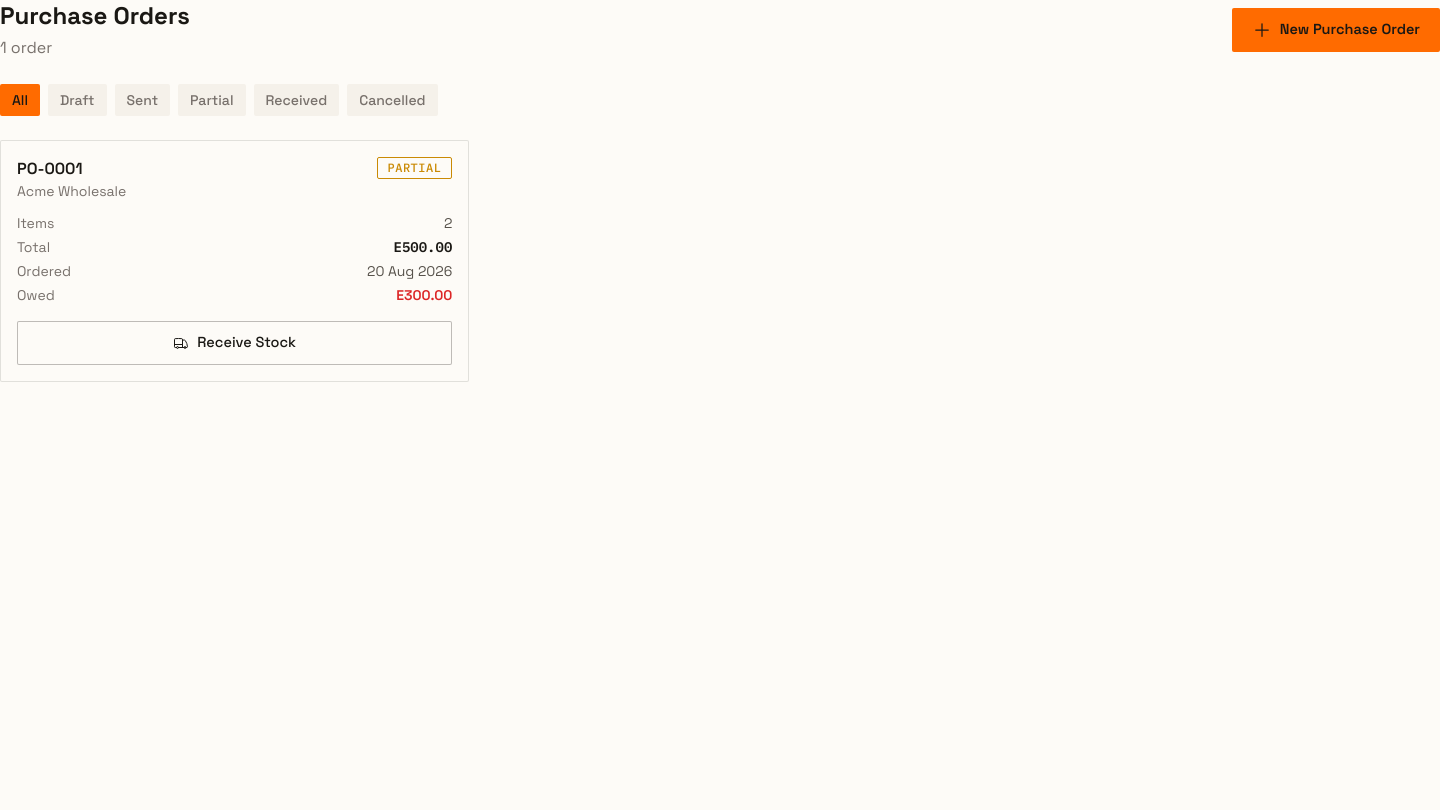
it: PurchaseOrders — recording a supplier payment › blocks an over-limit amount client-side before any request
Click the heading "PO-0001" at (50, 168), box [17,158,83,179]
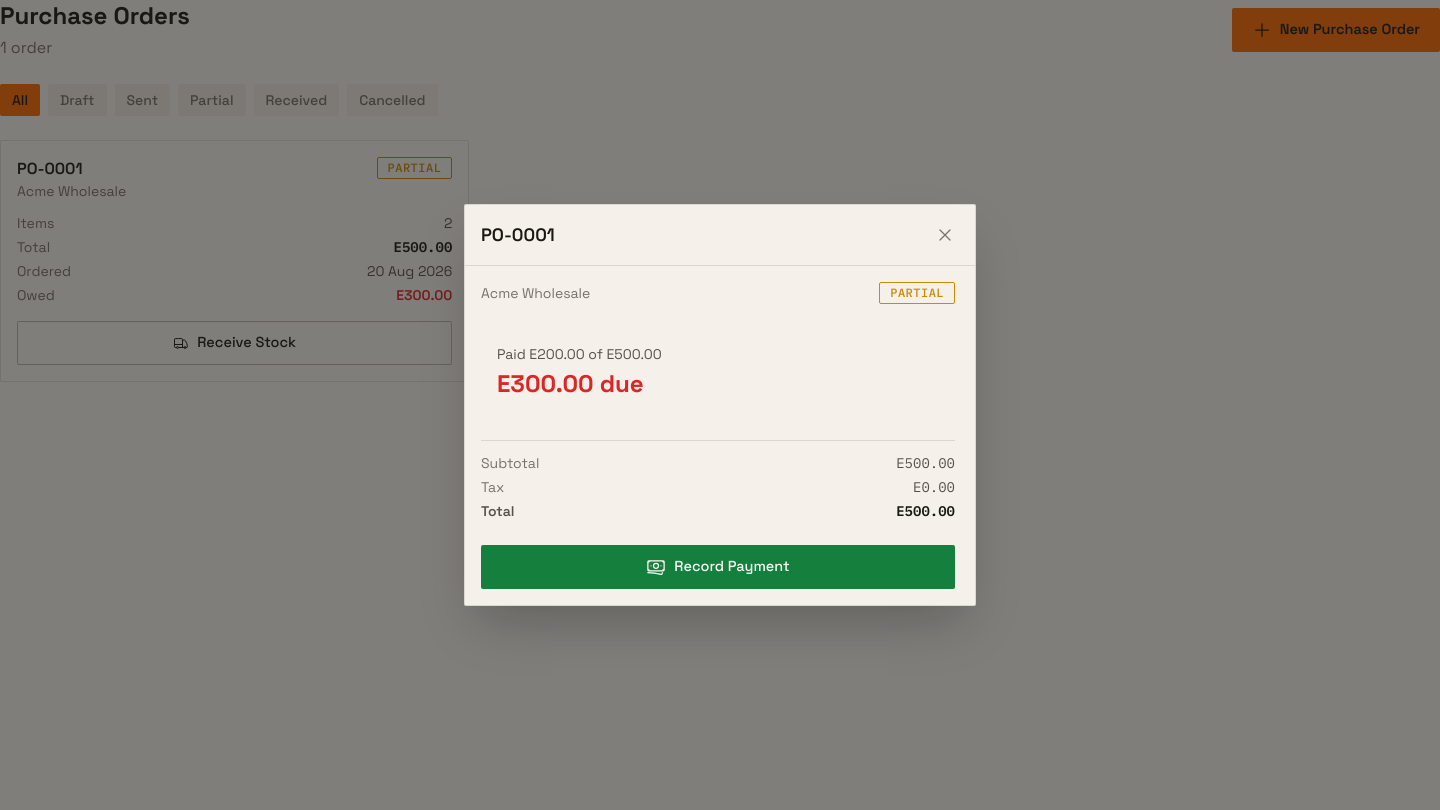
Now the button "Record Payment" is shown
Click the button "Record Payment" at (718, 567), box [481,545,955,589]
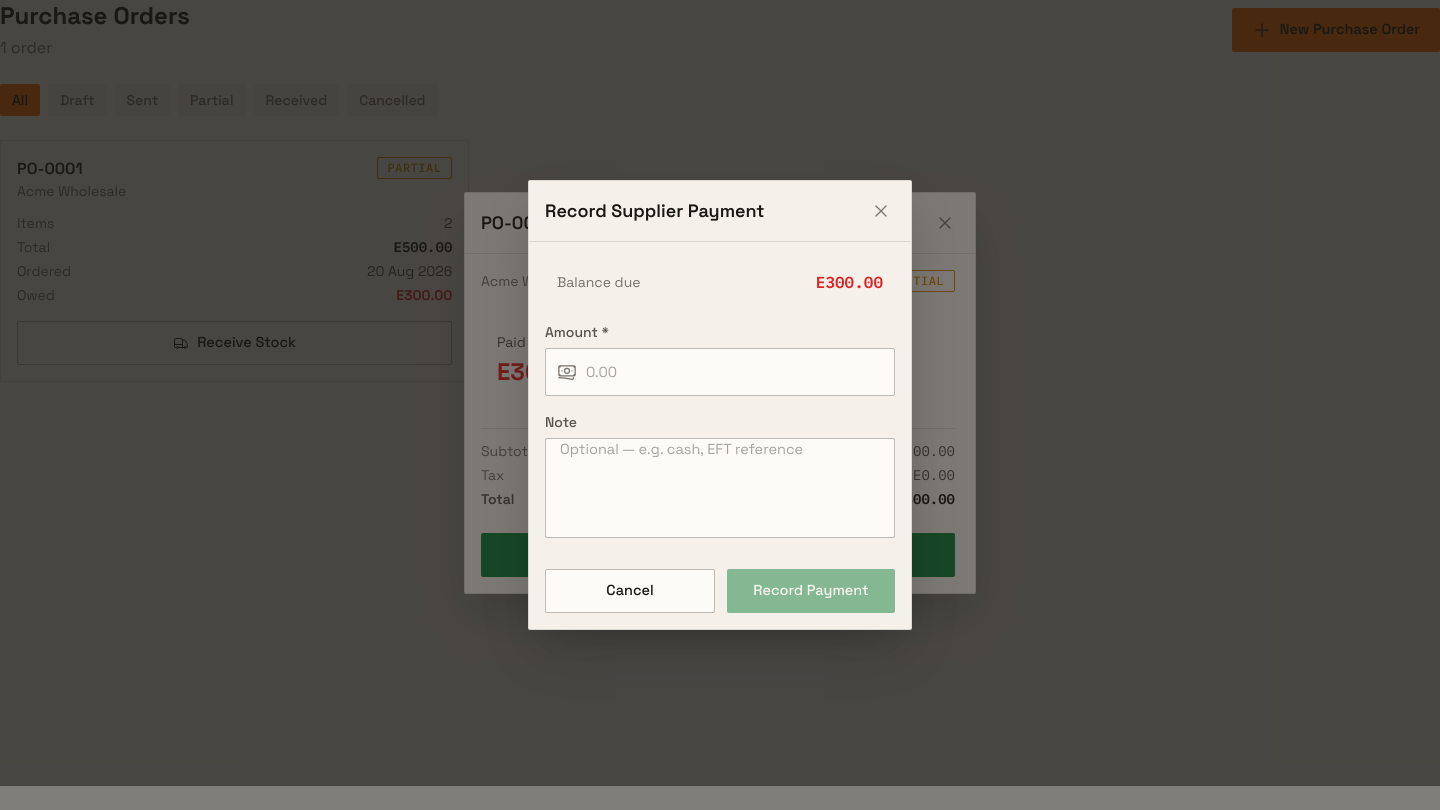
Now the number field with placeholder "0.00" is shown
Type "400" into the number field with placeholder "0.00" at (720, 372), box [545,348,895,396]
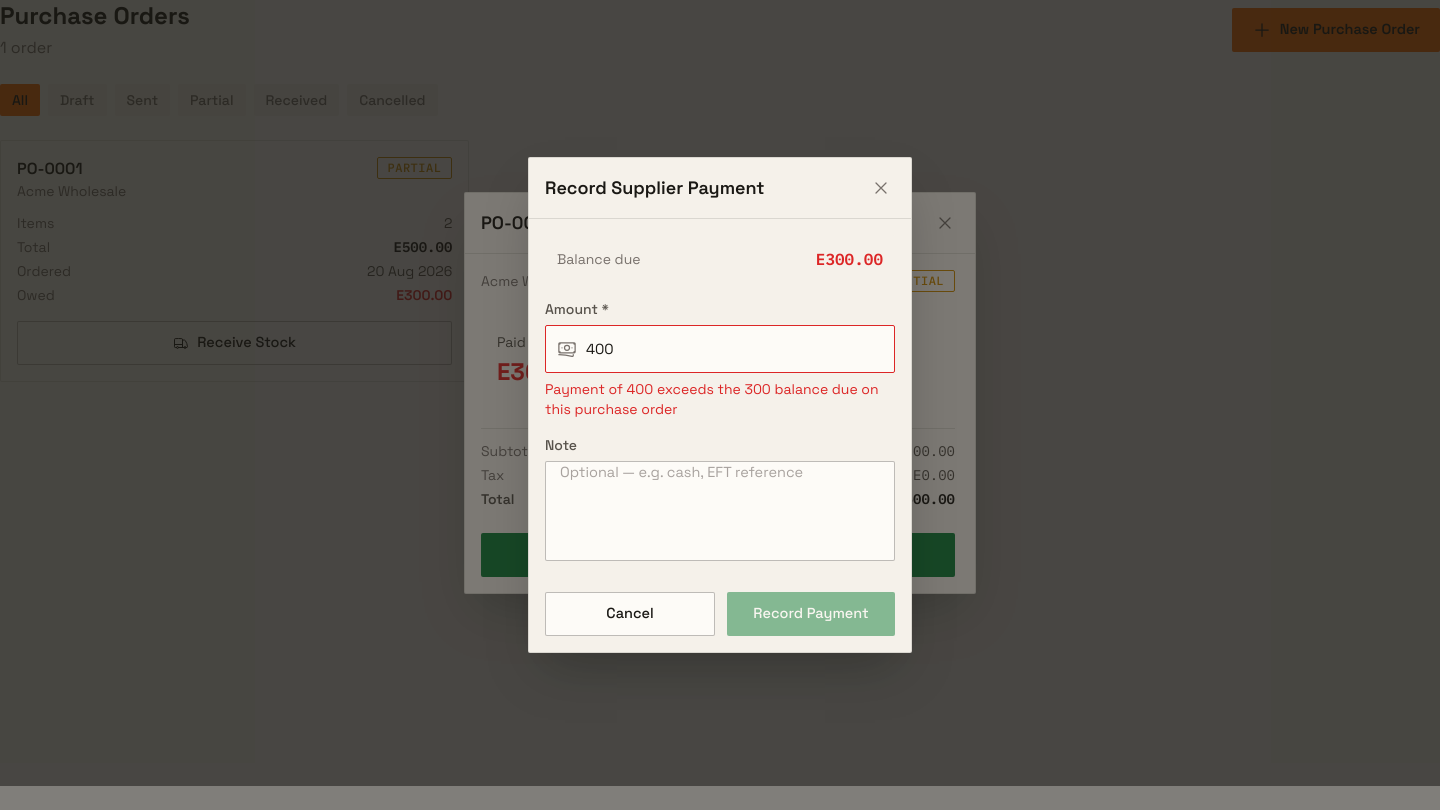
Now the button "Record Payment" is disabled, box [727,592,895,636]
Now the text "exceeds the 300 balance due" is shown, box [545,380,878,418]
